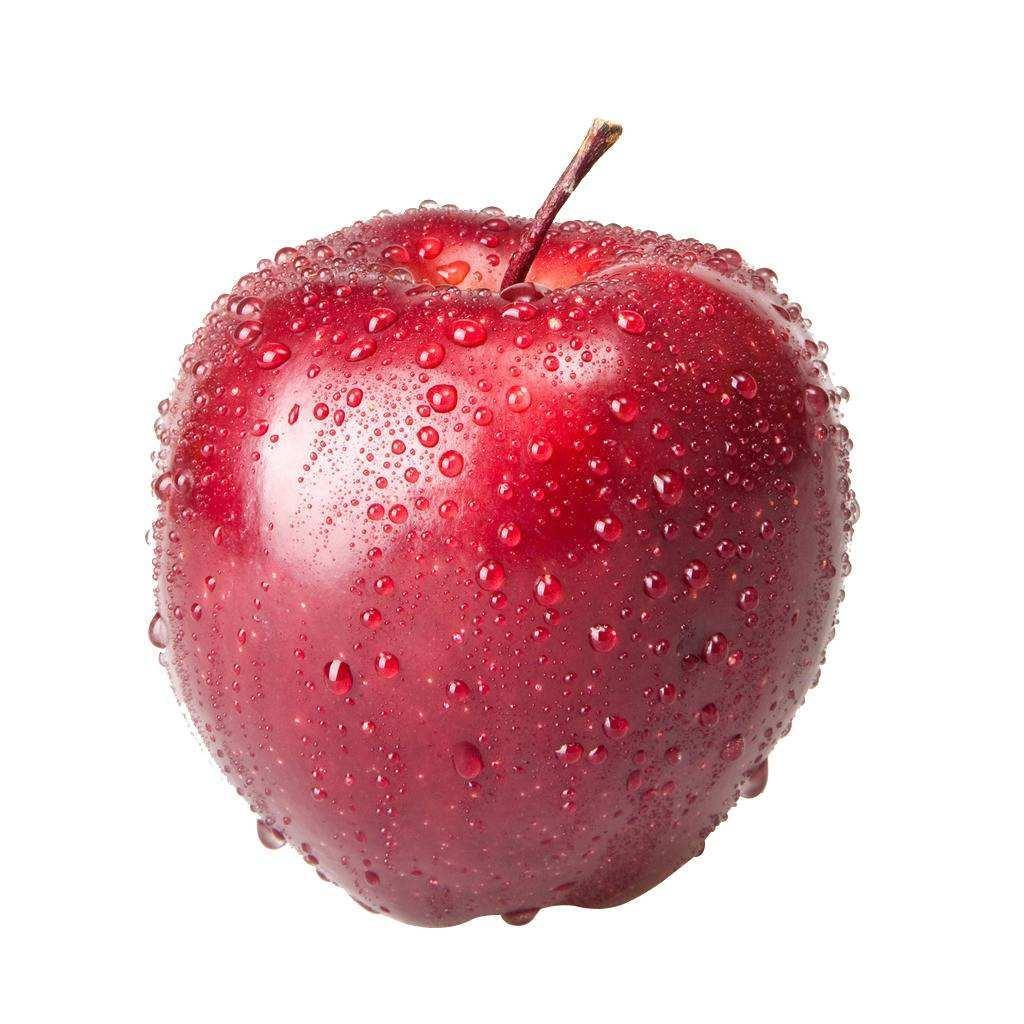apple: (146, 119, 857, 942)
